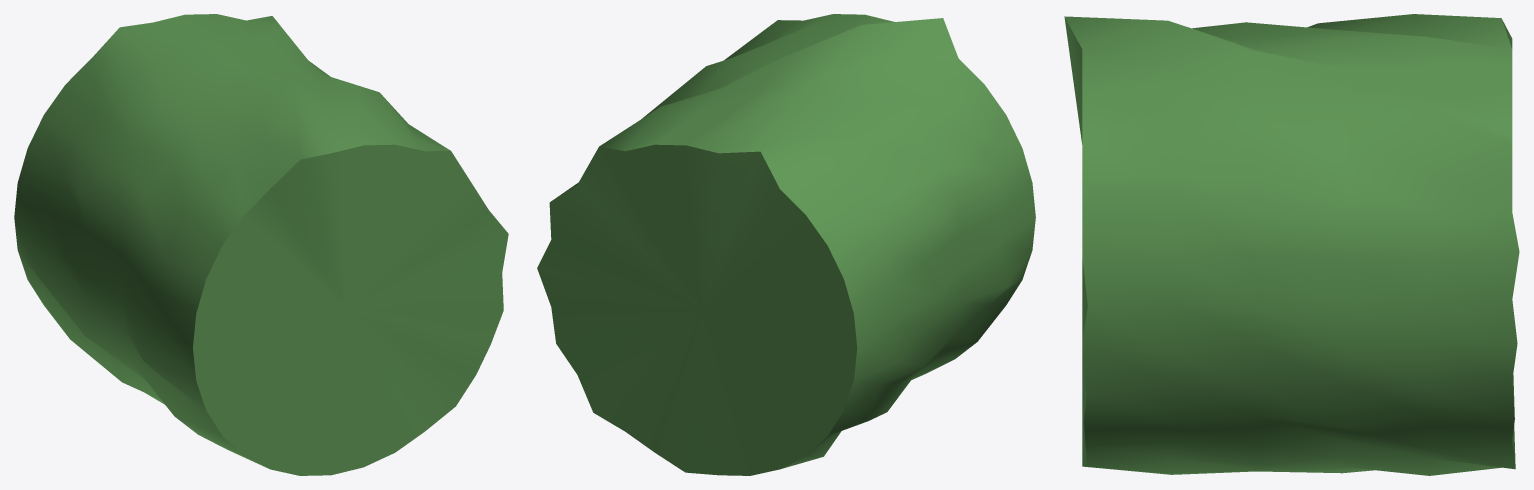
The model's file is world.obj.
3 renders of one model, left to right at view 1: azimuth 30°, elevation 25°; view 2: azimuth 150°, elevation 25°; view 3: azimuth 270°, elevation 25°, orthographic. The views are drawn at different scales.
Visible parts, largest first — view 1: pCylinder1; view 2: pCylinder1; view 3: pCylinder1.
Part boxes in pixels (bbox=[...]): pCylinder1: bbox=[14, 14, 508, 475]; pCylinder1: bbox=[537, 14, 1035, 475]; pCylinder1: bbox=[1064, 14, 1519, 475].
Size of the model in its own units: 2.15 by 2.28 by 2.12.
